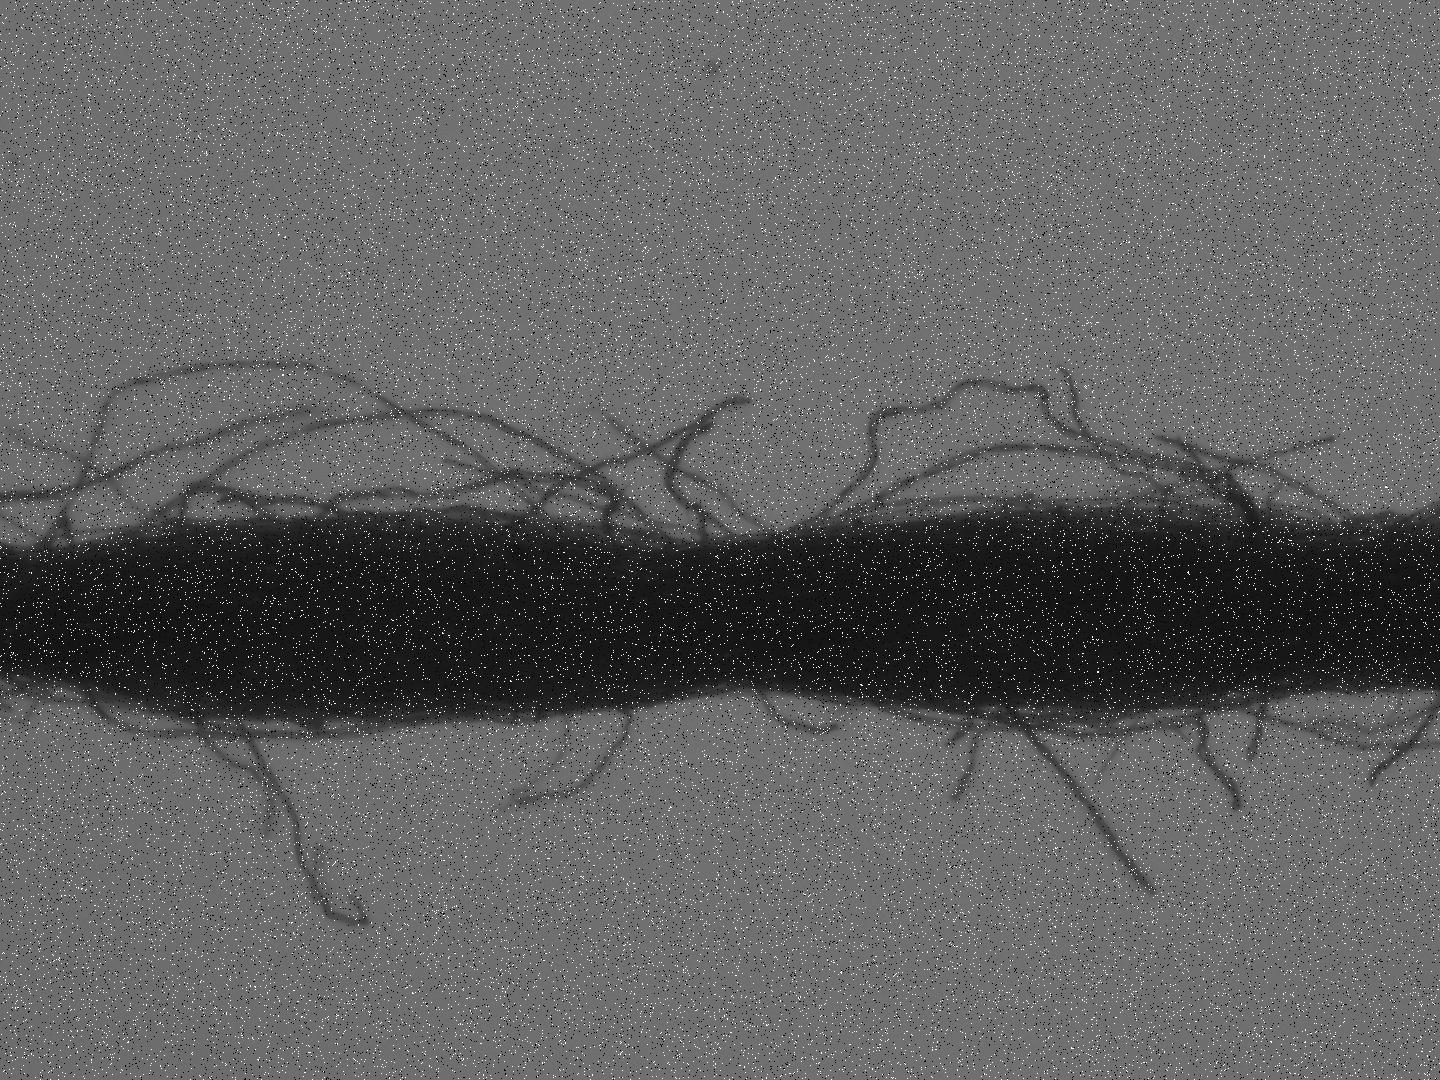loop_fiber: (706, 372, 1269, 572), (125, 400, 669, 547), (299, 464, 638, 560), (879, 677, 1298, 743), (79, 698, 404, 746), (172, 479, 282, 532), (9, 675, 107, 708), (469, 707, 565, 734)
protruding_fiber: (1006, 695, 1159, 910), (762, 691, 838, 739)
